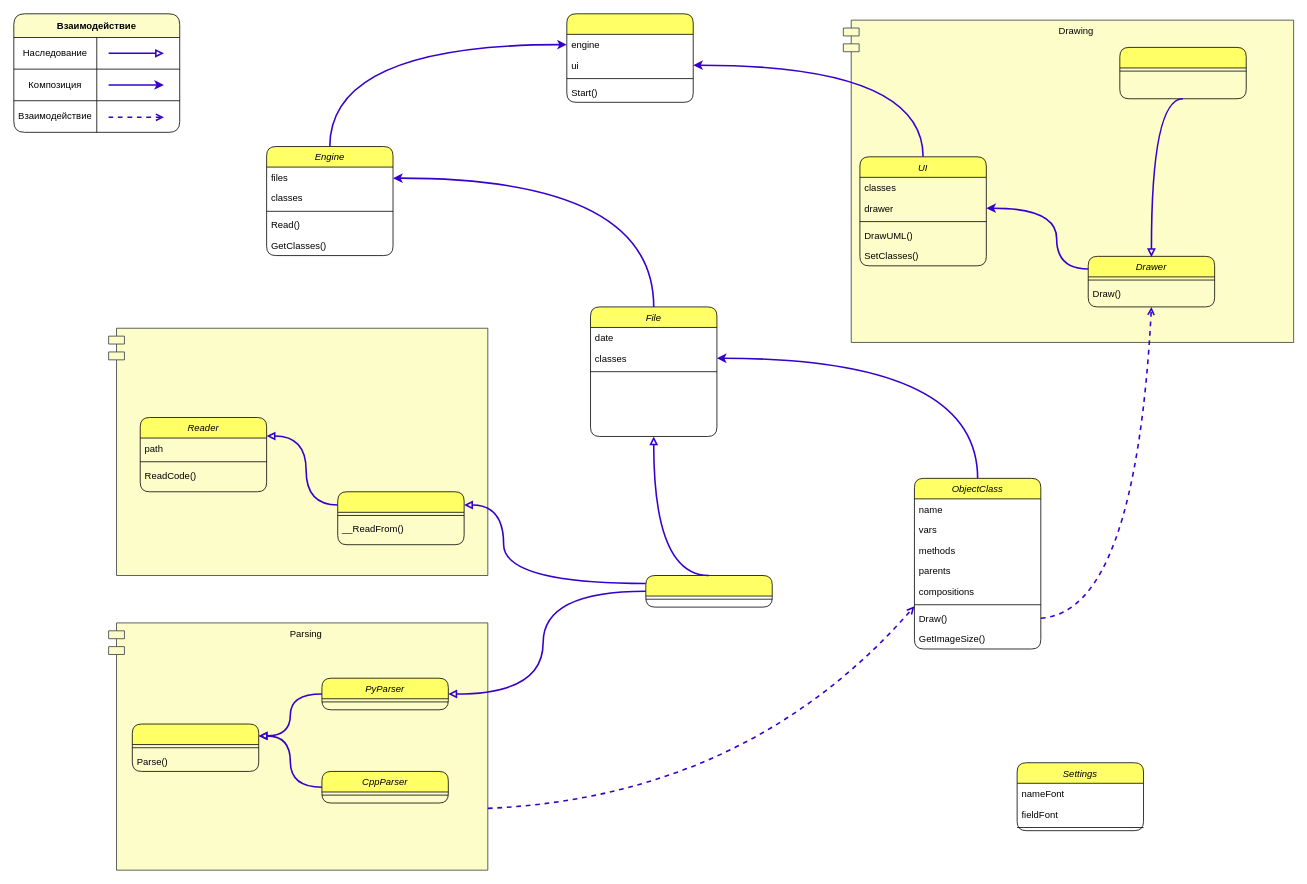
Some shapes in this 1307 by 884 pixel diagram are drawn without their labels. The shapes that lost their labels are listed below. From the top down, each one's box as (x1, y1, x2, y2) in pixels, then its label:
(566, 13, 693, 102): Controller
(1119, 47, 1246, 99): HTMLDrawer
(108, 327, 488, 576): Reading
(337, 491, 464, 545): LocReader
(645, 575, 772, 607): PyLocFile
(132, 723, 259, 771): Parser
